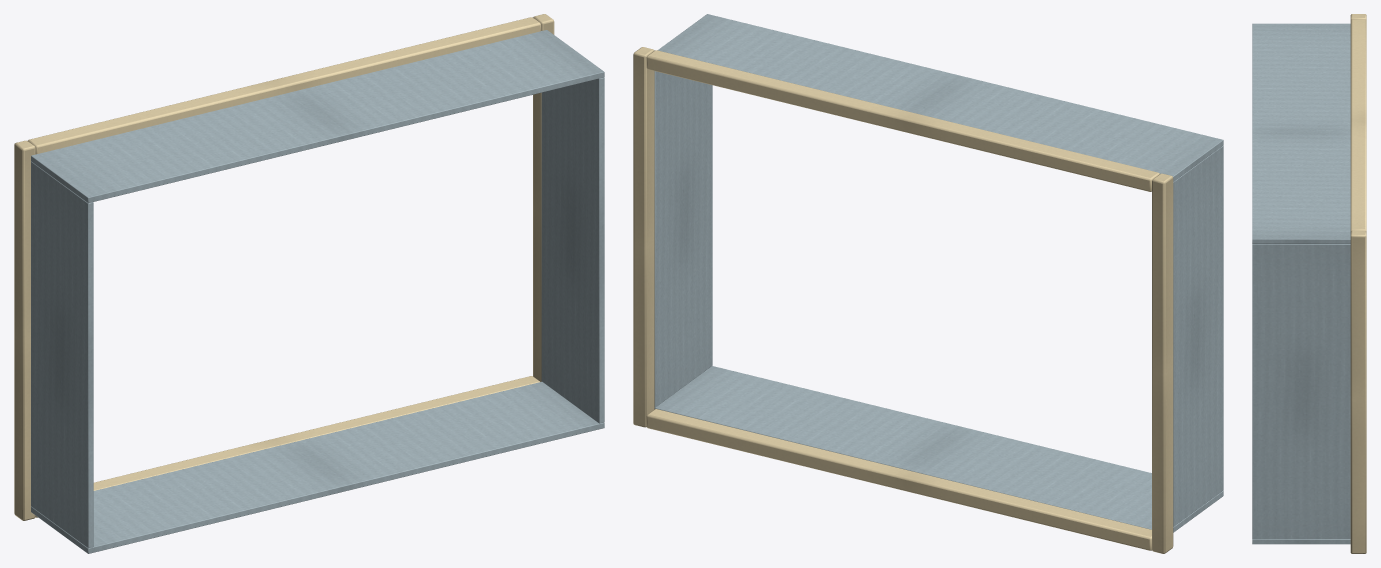
Rendered from 28-back-open-long-window-0.fbx.
The picture shows the model from 3 angles, left to right: view 1: azimuth 30°, elevation 25°; view 2: azimuth 150°, elevation 25°; view 3: azimuth 270°, elevation 25°; orthographic projection. The views are drawn at different scales.
Visible parts, largest first — view 1: back-open-long-window-0; view 2: back-open-long-window-0; view 3: back-open-long-window-0.
Part boxes in pixels (x1,y1,x2,y2): back-open-long-window-0: [14, 14, 604, 553]; back-open-long-window-0: [633, 14, 1223, 553]; back-open-long-window-0: [1252, 14, 1366, 553].
Size of the model in its own units: 4840 by 3240 by 1055.
1 material, 1 textured.
